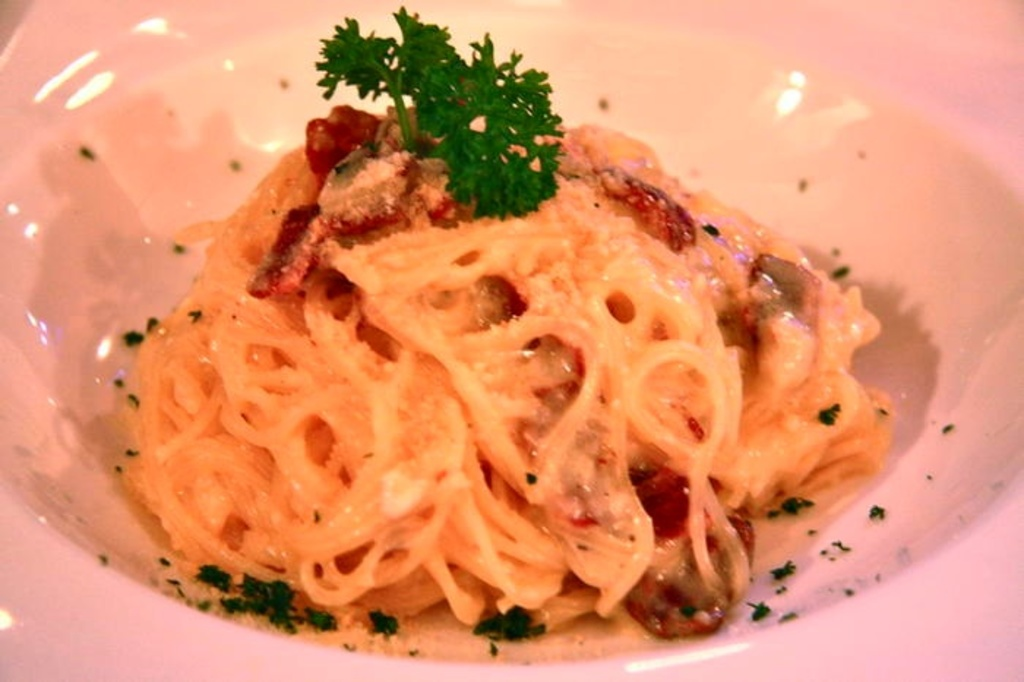pasta: (121, 121, 894, 634)
